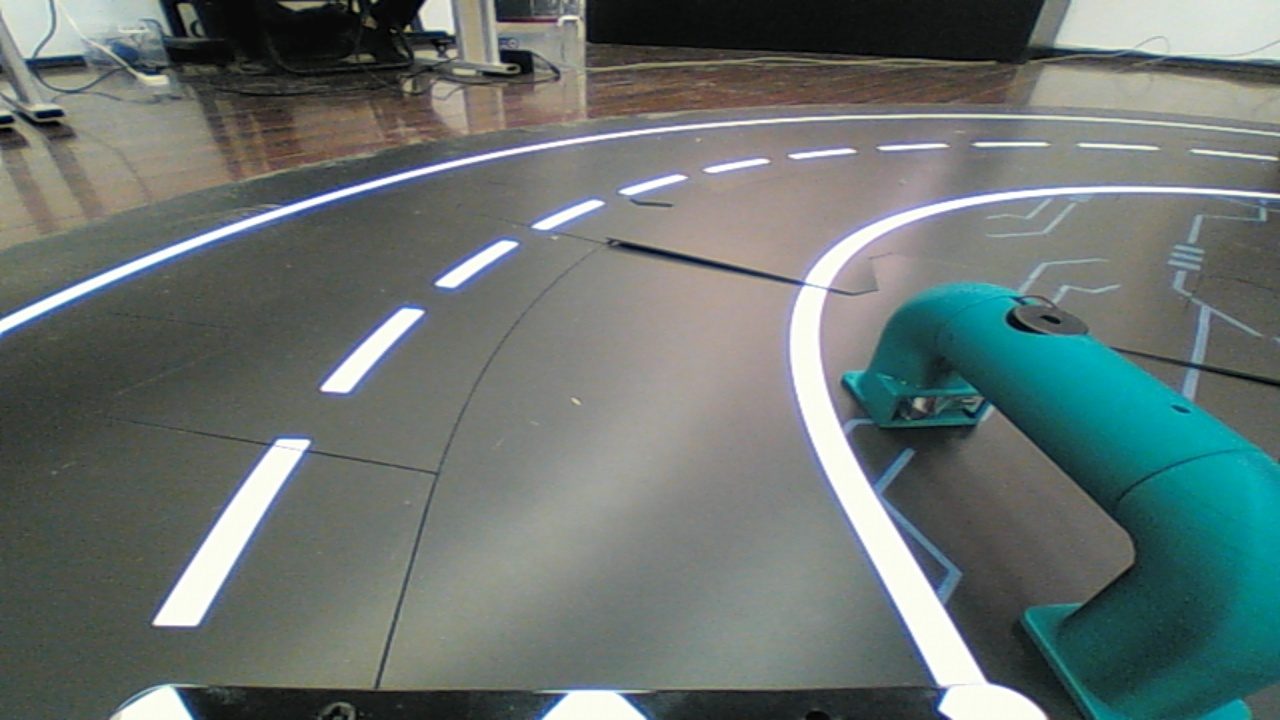Pedestrian crossing: (842, 243, 1269, 704)
